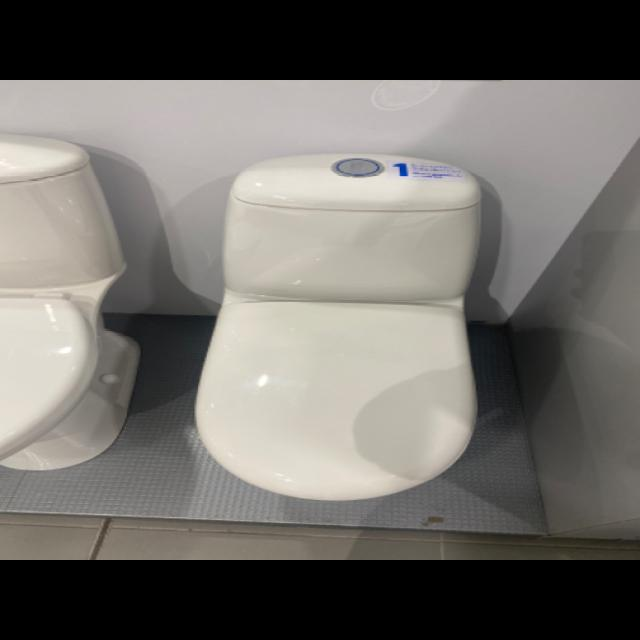toilet: (193, 152, 481, 502), (0, 131, 140, 471)
